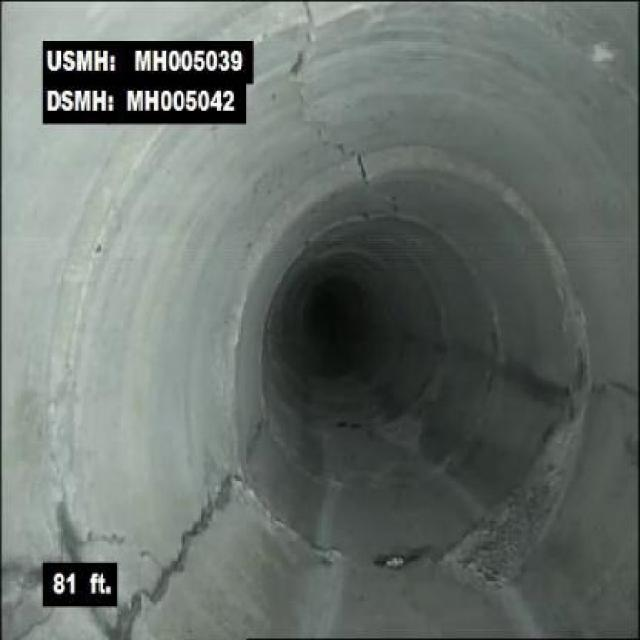Crack: (115, 472, 238, 637), (269, 2, 331, 106), (297, 109, 361, 162)
Joint offset: (43, 143, 151, 394), (526, 189, 591, 337), (372, 143, 503, 182), (266, 165, 343, 212), (591, 370, 635, 404)
